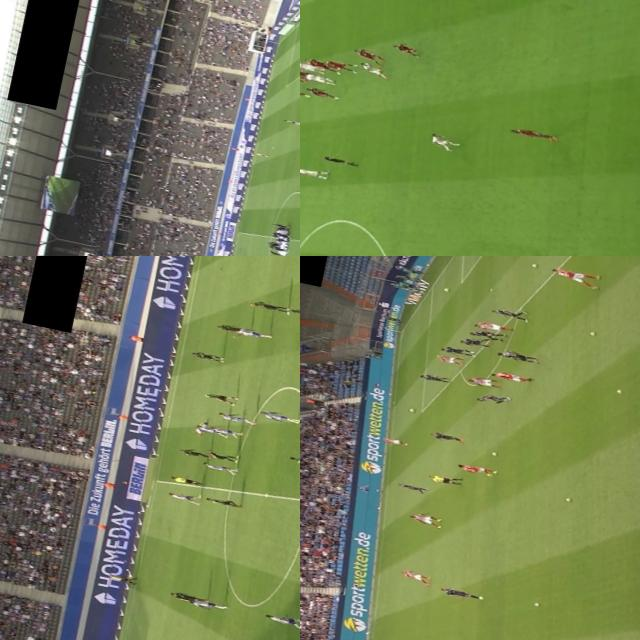ball: (564, 494, 574, 502), (488, 450, 499, 456), (532, 600, 542, 606), (442, 285, 452, 291), (588, 328, 596, 334), (616, 386, 623, 392), (408, 406, 414, 411), (530, 261, 536, 266), (269, 144, 276, 148)
player: (506, 122, 559, 144), (550, 266, 600, 286), (259, 606, 300, 629), (243, 296, 290, 316), (257, 406, 300, 425), (422, 130, 462, 150), (202, 490, 242, 510), (187, 595, 227, 615), (228, 323, 270, 341), (200, 456, 236, 477), (214, 319, 252, 338), (168, 486, 202, 506), (490, 368, 532, 384), (477, 388, 512, 407), (355, 59, 389, 78), (496, 348, 536, 364), (457, 461, 499, 476), (214, 409, 253, 425), (490, 304, 529, 320), (441, 586, 485, 600), (304, 55, 340, 72), (466, 372, 502, 389), (474, 317, 512, 333), (168, 588, 205, 604), (204, 446, 236, 464), (190, 347, 227, 362), (467, 326, 504, 341), (202, 388, 236, 404), (354, 47, 388, 62), (300, 161, 328, 179), (438, 342, 474, 356), (410, 511, 443, 526), (302, 86, 338, 99), (210, 423, 241, 438), (399, 568, 430, 583), (430, 428, 463, 442), (301, 71, 333, 85), (178, 446, 210, 460), (190, 417, 212, 437), (458, 333, 489, 347), (195, 424, 229, 436), (300, 57, 327, 72), (326, 58, 354, 72), (390, 41, 419, 54), (398, 479, 427, 492), (285, 447, 300, 472), (419, 371, 450, 383), (436, 352, 462, 364), (381, 435, 406, 446), (288, 303, 300, 321), (300, 67, 315, 78), (282, 117, 300, 124), (300, 67, 308, 80), (254, 150, 270, 156)
